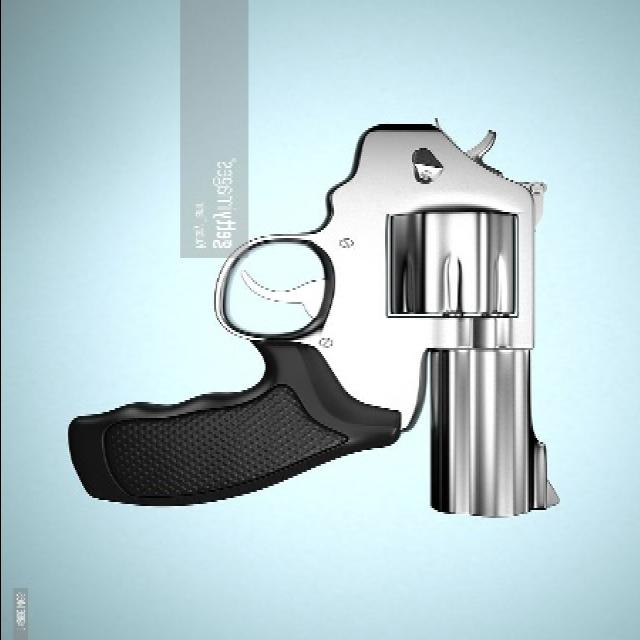handgun: (69, 119, 573, 537)
